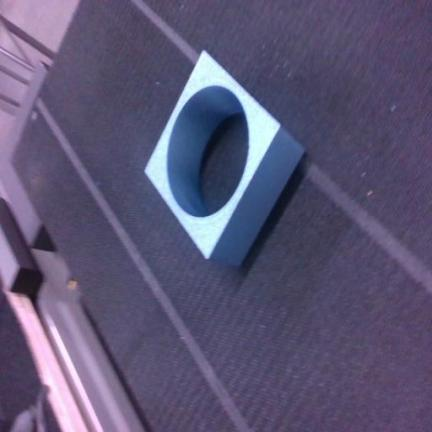square: (146, 52, 303, 264)
